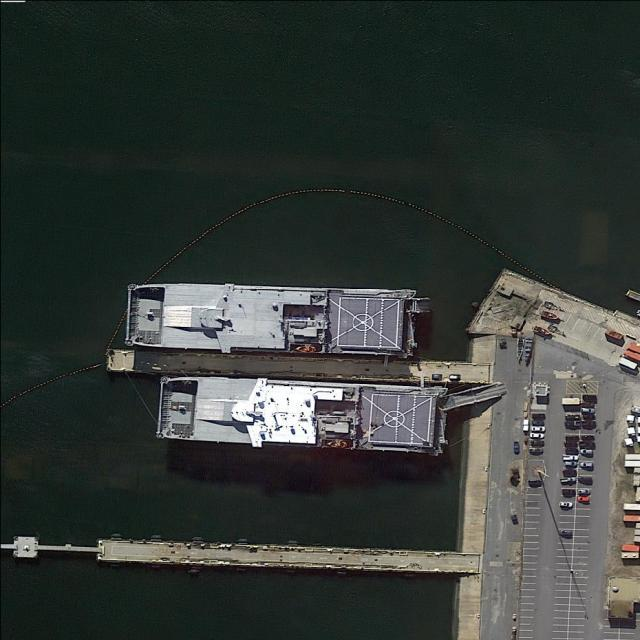Auxiliary Ships: (153, 367, 450, 460), (123, 277, 416, 361)
Dock: (107, 348, 468, 385), (95, 537, 458, 572)
